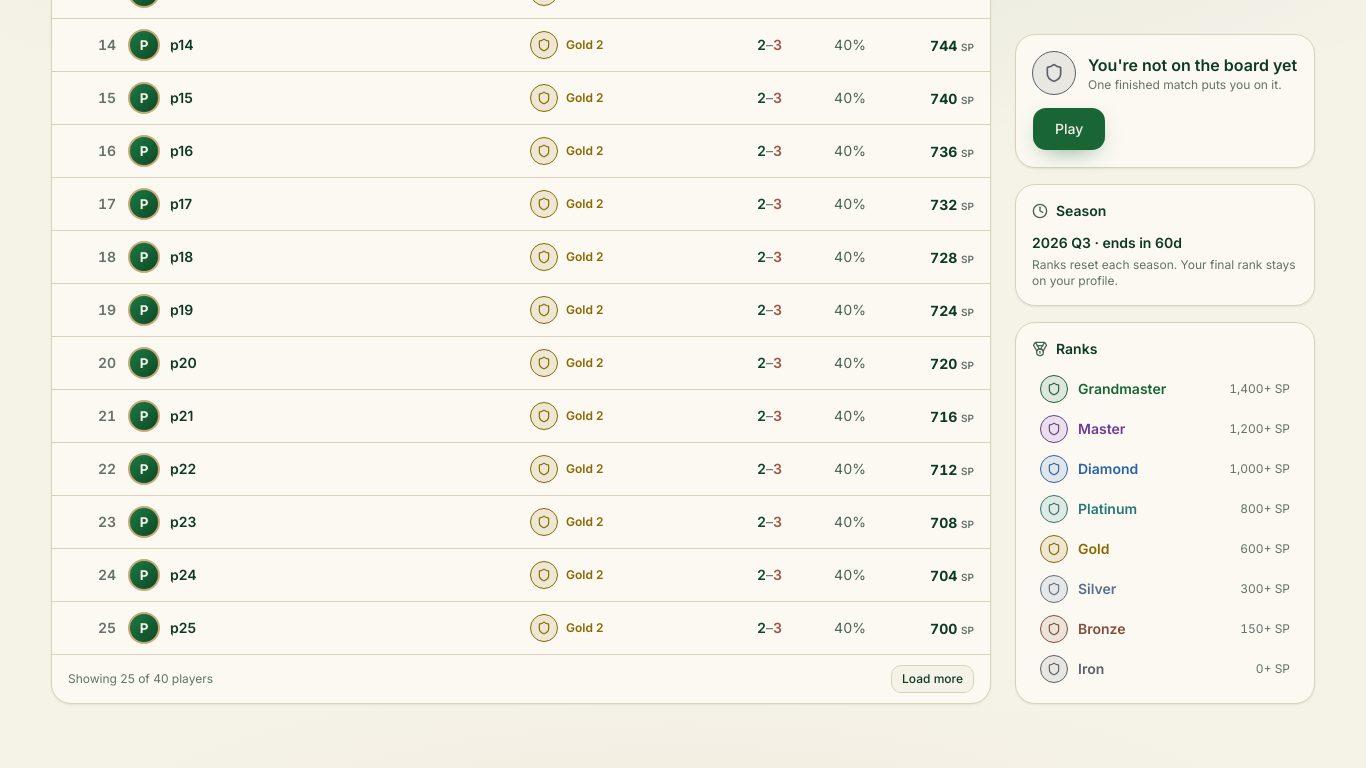
Test: LeaderboardPage › appends the next page from the loaded-row offset when load more is clicked
(page scrolled)
Click the button with test id "leaderboard-load-more": (932, 679) [891, 665, 974, 693]
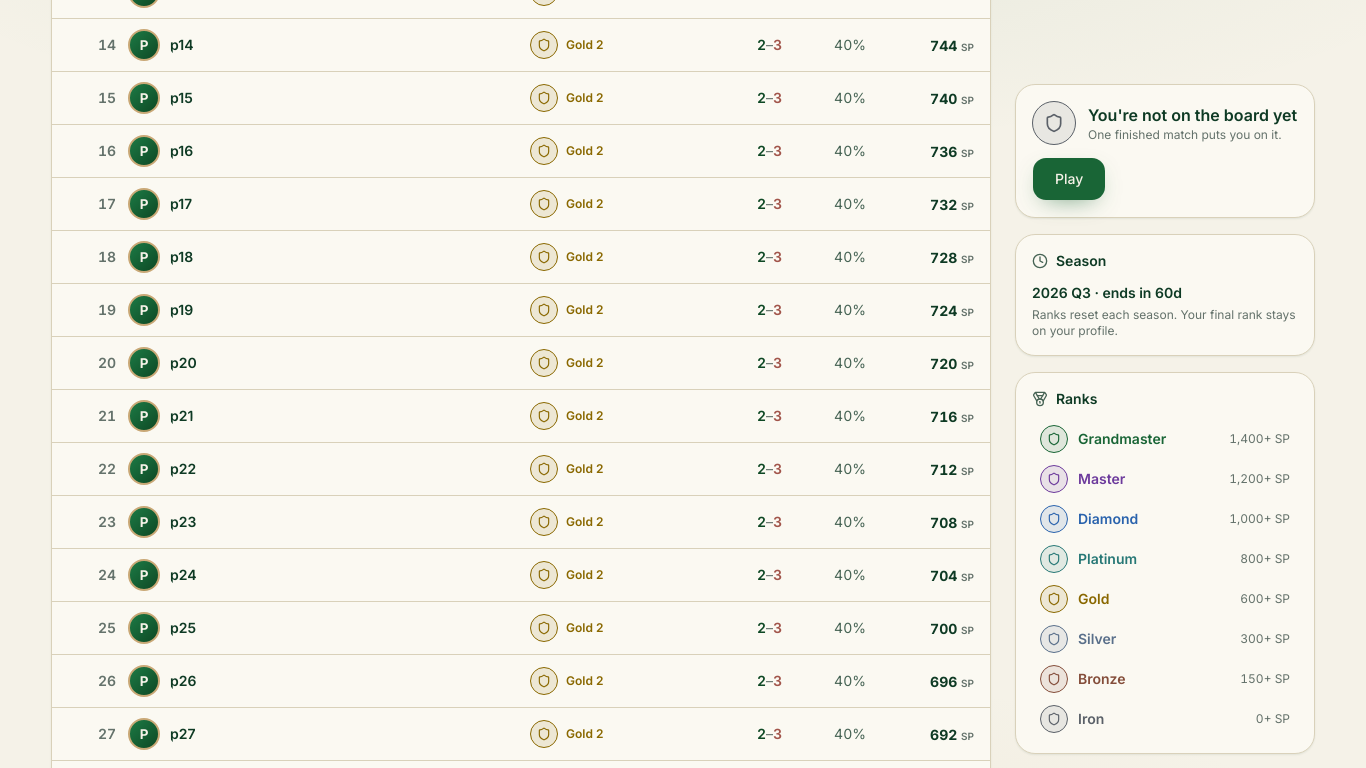
Result: the button with test id "leaderboard-load-more" is gone
